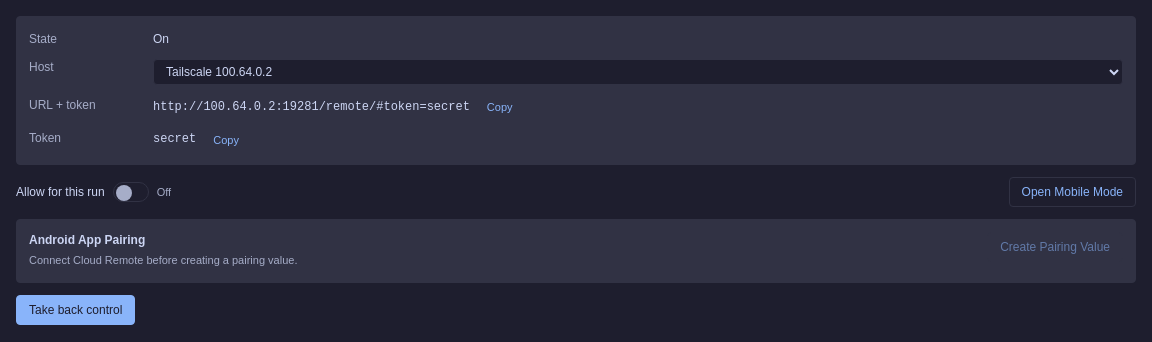
Test: RemoteAccessModal › offers host control reclaim when a remote controller owns the lease
This screenshot has width=1152, height=342.
Click the button with test id "remote-access-reclaim".
click(76, 310)  # box [16, 295, 135, 325]
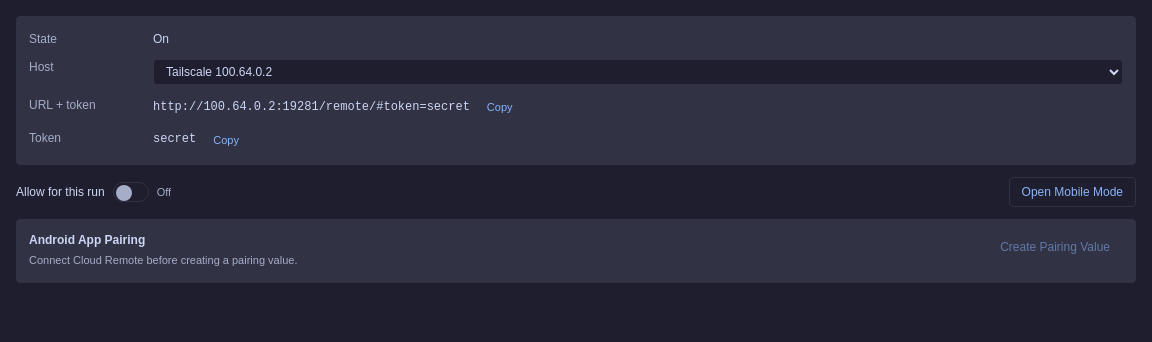
Expected: the button with test id "remote-access-reclaim" is gone
